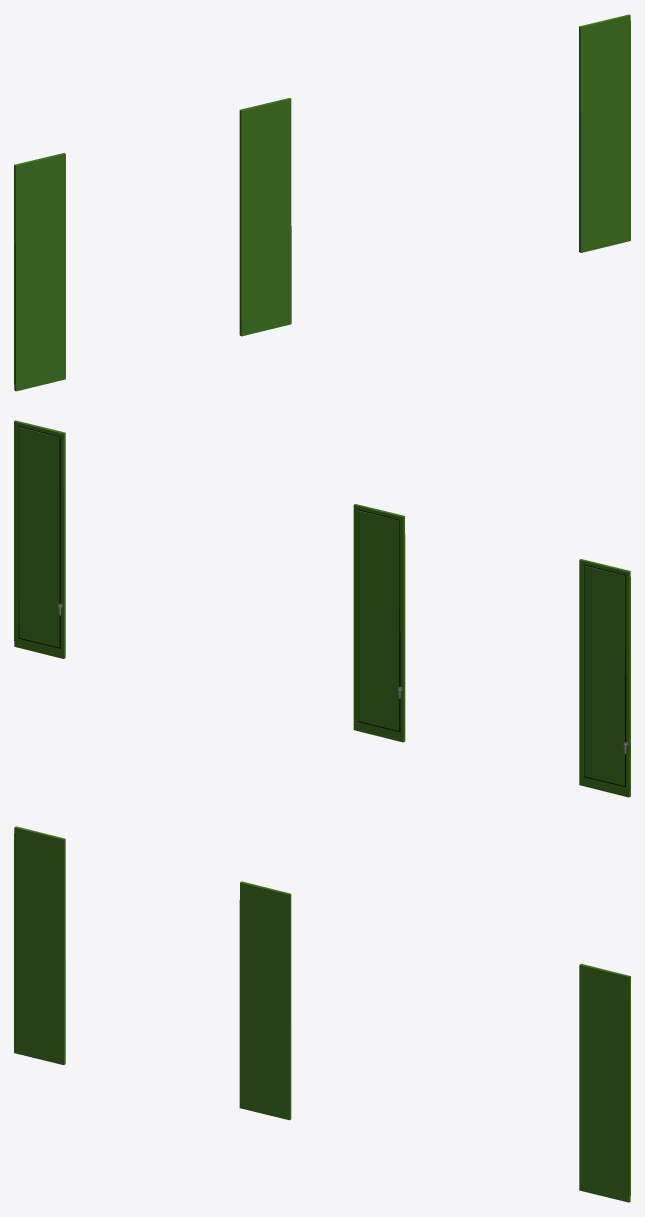
File: window panels.fbx
3 views of the same model, one above another, from view 1: azimuth 30°, elevation 25°; view 2: azimuth 150°, elevation 25°; view 3: azimuth 330°, elevation 25° (orthographic).
Parts seen in each view (by area): view 1: Fenster_panel.002, Fenster_panel.001, Fenster_panel.003; view 2: Fenster_panel.002, Fenster_panel.001, Fenster_panel.003; view 3: Fenster_panel.002, Fenster_panel.003, Fenster_panel.001.
Part boxes in pixels (x1,y1,x2,y2): Fenster_panel.002: (239, 98, 291, 336); Fenster_panel.001: (14, 153, 65, 391); Fenster_panel.003: (579, 14, 630, 252); Fenster_panel.002: (353, 504, 405, 742); Fenster_panel.001: (579, 559, 630, 797); Fenster_panel.003: (14, 420, 65, 658); Fenster_panel.002: (239, 881, 291, 1120); Fenster_panel.003: (579, 963, 630, 1202); Fenster_panel.001: (14, 826, 65, 1064).
Bounding box in the file's own units: 627 × 220 × 6.98.
